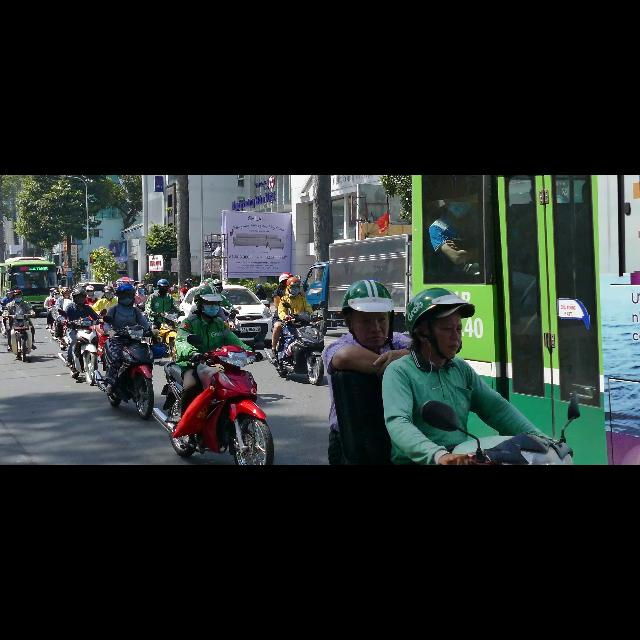bus: (413, 175, 639, 464), (0, 258, 56, 312)
car: (222, 285, 272, 345), (75, 282, 106, 298)
motorcycle: (154, 346, 274, 464), (422, 392, 580, 464), (108, 326, 154, 419), (269, 312, 324, 385), (64, 318, 98, 385), (8, 314, 32, 361), (158, 313, 179, 360), (221, 307, 241, 337), (57, 327, 68, 350), (136, 304, 149, 321), (2, 307, 6, 310)
truck: (303, 235, 411, 332)
